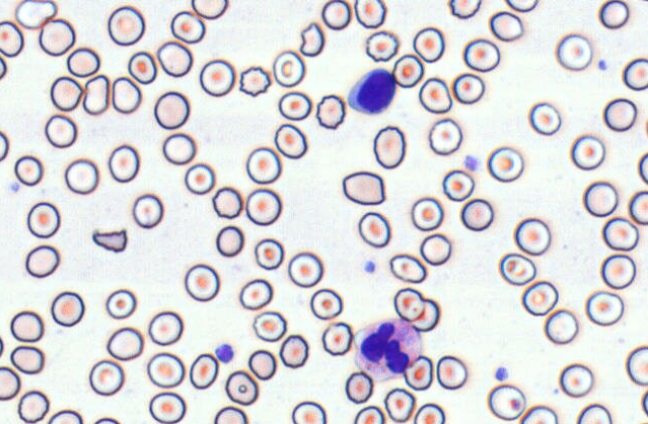GRAN: (353, 318, 425, 381)
LYM: (346, 67, 396, 115)
PLT: (214, 344, 236, 363), (464, 155, 480, 173), (495, 365, 510, 381), (361, 261, 377, 275), (598, 58, 612, 72)
RBC: (107, 5, 145, 46), (487, 383, 526, 420), (153, 90, 190, 129), (373, 125, 405, 169), (514, 217, 551, 255), (38, 18, 75, 56), (555, 33, 592, 71), (146, 352, 185, 388), (585, 290, 624, 326), (245, 146, 281, 184), (199, 58, 235, 96), (245, 188, 281, 225), (88, 359, 124, 396), (521, 280, 558, 316), (486, 146, 523, 182), (156, 40, 192, 77), (582, 180, 618, 217), (106, 326, 144, 361), (184, 263, 219, 301), (287, 251, 323, 287), (600, 253, 636, 289), (602, 216, 639, 251), (64, 158, 99, 194), (543, 308, 578, 344), (570, 134, 605, 170), (26, 201, 60, 238), (428, 118, 462, 155), (463, 38, 500, 72), (498, 252, 536, 285), (272, 49, 305, 87), (14, 0, 57, 29), (148, 310, 183, 345), (50, 291, 84, 327), (418, 77, 452, 113), (148, 391, 186, 423), (107, 144, 139, 182), (224, 370, 258, 405), (602, 97, 637, 131), (50, 75, 83, 111), (357, 211, 390, 247), (412, 26, 444, 63), (25, 244, 59, 278), (559, 363, 593, 397), (410, 196, 443, 231), (170, 10, 205, 43), (274, 123, 307, 158), (111, 76, 141, 114), (162, 132, 196, 165), (44, 114, 77, 148), (528, 101, 561, 135), (383, 387, 415, 422), (392, 53, 424, 88), (389, 253, 426, 283), (460, 198, 493, 231), (393, 287, 425, 321), (239, 278, 273, 310), (252, 310, 286, 342), (132, 193, 163, 228), (189, 353, 219, 389), (17, 390, 49, 423), (10, 310, 43, 342), (309, 288, 342, 320), (365, 30, 398, 62), (321, 321, 352, 355), (436, 355, 467, 389), (489, 10, 523, 41), (403, 355, 433, 390), (315, 94, 345, 129), (419, 233, 451, 265), (211, 186, 243, 218), (442, 169, 474, 201), (452, 72, 484, 104), (238, 65, 271, 96), (410, 298, 440, 332), (127, 50, 157, 84), (66, 47, 100, 77), (184, 162, 215, 194), (10, 345, 44, 374), (279, 334, 308, 368), (105, 288, 136, 319), (254, 238, 284, 270), (278, 91, 311, 120), (344, 371, 373, 403), (215, 225, 244, 257), (353, 0, 386, 28), (321, 0, 351, 30), (14, 155, 43, 186), (247, 349, 276, 380), (598, 0, 629, 29), (0, 20, 24, 57), (626, 345, 647, 385), (622, 57, 647, 90), (291, 400, 326, 423), (519, 404, 558, 423), (576, 403, 612, 423), (191, 0, 228, 19), (0, 365, 20, 400), (413, 402, 445, 423), (628, 190, 647, 224), (448, 0, 481, 19), (213, 405, 247, 423), (353, 405, 384, 423), (47, 409, 82, 423), (504, 0, 538, 12), (638, 151, 647, 184), (0, 130, 9, 161), (641, 389, 648, 416), (93, 416, 120, 423), (0, 54, 7, 80), (0, 335, 4, 358), (644, 117, 648, 139)
Schistocyte: (342, 170, 386, 205), (300, 22, 326, 57), (93, 229, 129, 254)
